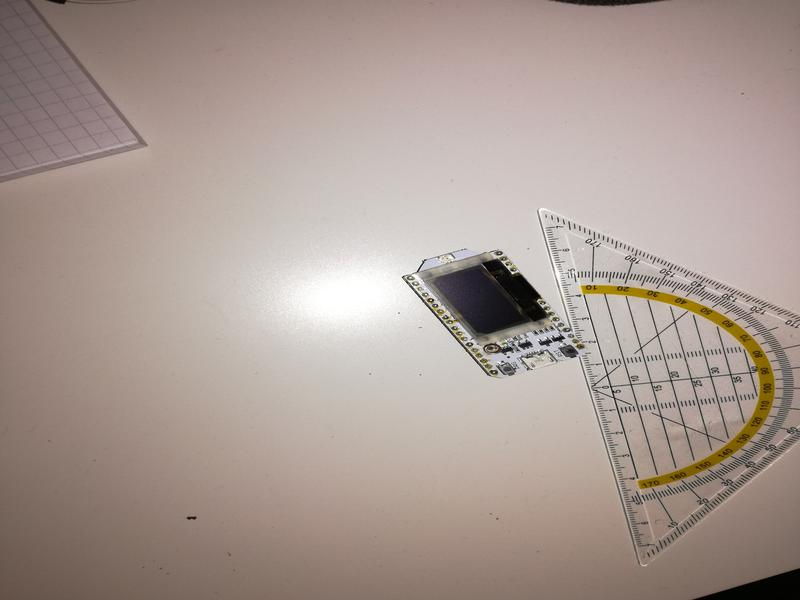Heltec_ESP32_Lora: (398, 243, 592, 382)
